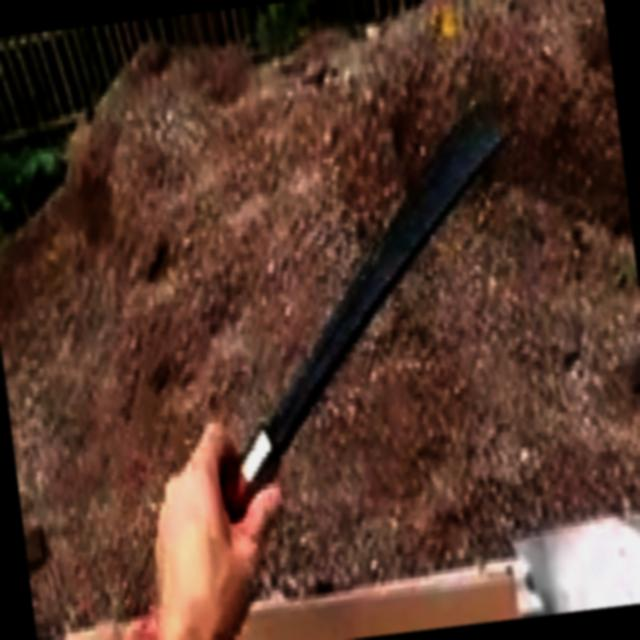eto: (130, 91, 514, 640)
